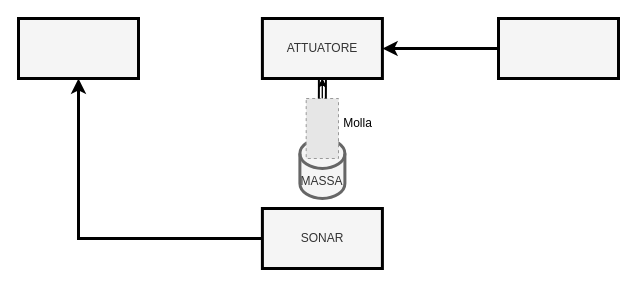
This 637x287 diagram has some shape labels left out. Grey dashed boxes stand in for pictures. Here are the shapes that lost their labels. From the top down, the centre of each, then its label:
the point at 78,48: COMPUTER
the point at 558,48: GENERATORE SINUSOIDALE
